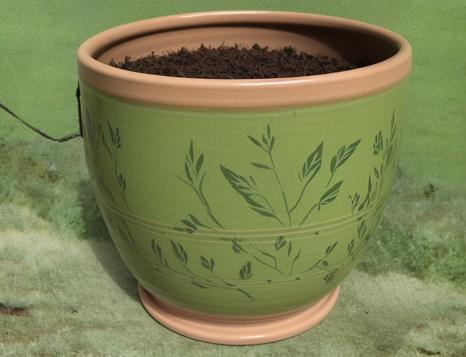pottedplant: (77, 2, 411, 348)
